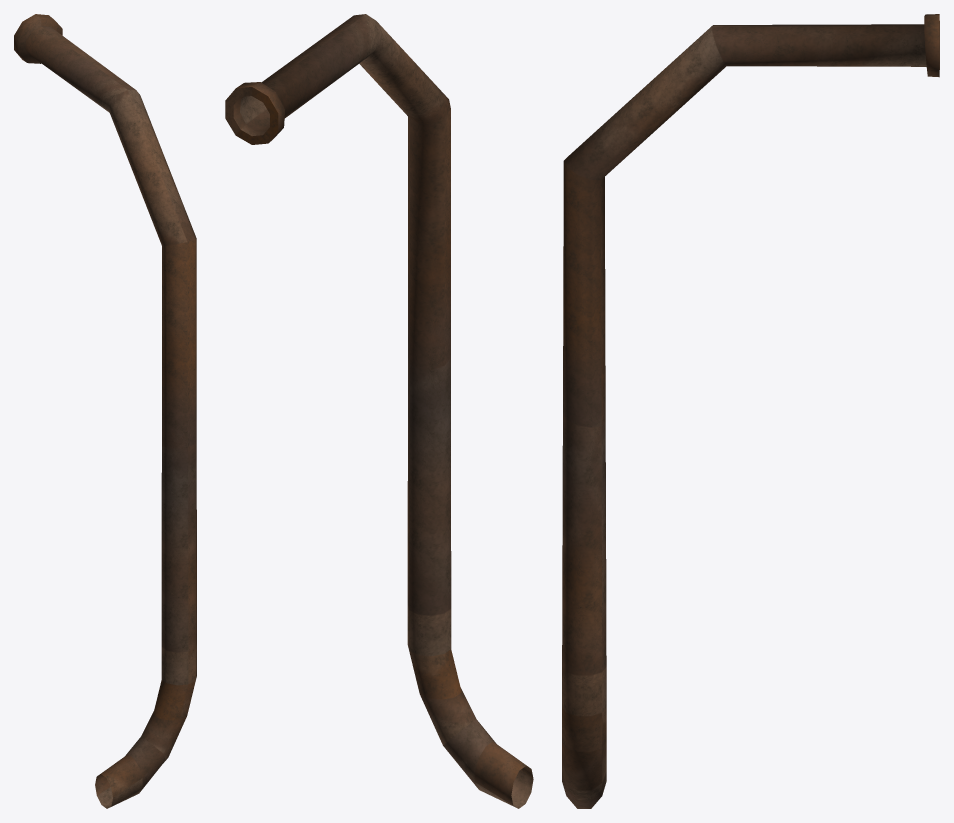
Rendered from Pipe1.fbx.
3 views of the same model, side by side, from view 1: azimuth 30°, elevation 25°; view 2: azimuth 150°, elevation 25°; view 3: azimuth 270°, elevation 25° (orthographic). The views are drawn at different scales.
Visible parts, largest first — view 1: Vert.016; view 2: Vert.016; view 3: Vert.016.
Boxes of the visible parts, box(x1,y1,x2,y2) form: Vert.016: box(14, 14, 196, 808); Vert.016: box(225, 14, 533, 808); Vert.016: box(562, 14, 939, 808).
Bounding box in the file's own units: 268 × 1767 × 731.
Materials: 1 (1 with a texture image).
